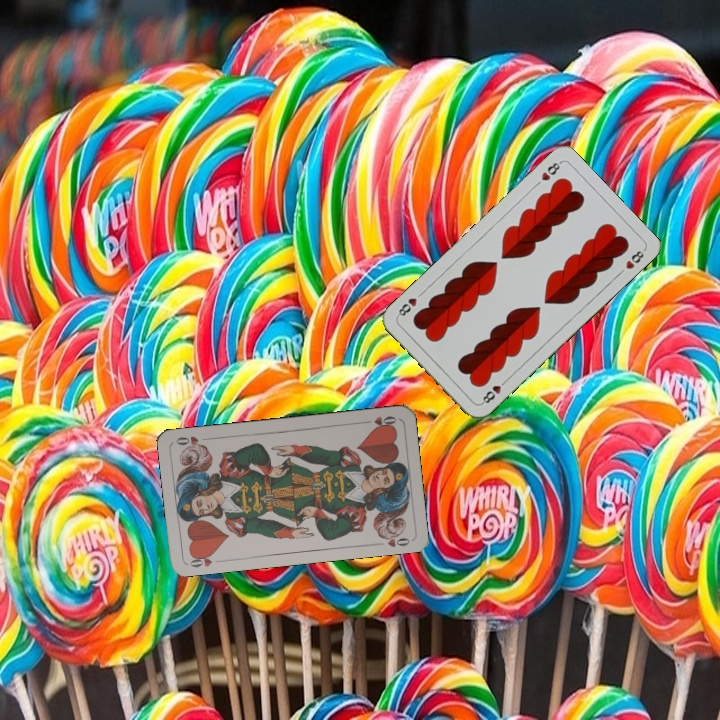H8: (477, 375, 510, 407), (537, 158, 564, 183)
HO: (186, 549, 225, 570), (359, 412, 399, 430)
